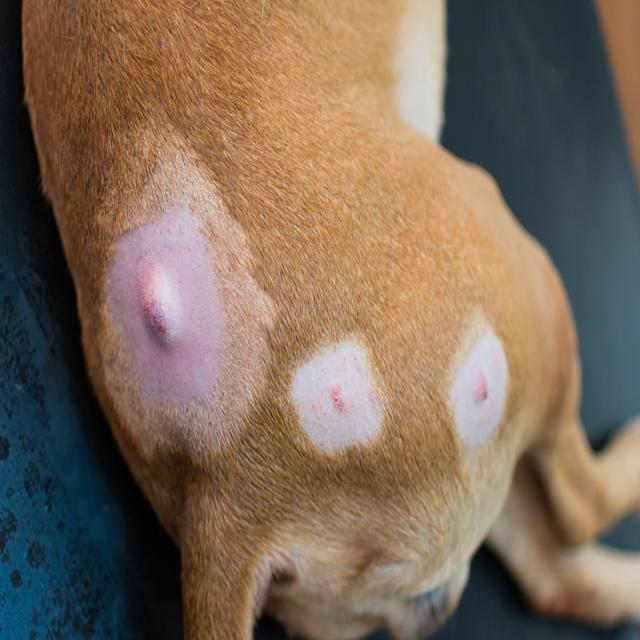lump_and_bump: (138, 263, 178, 345), (468, 371, 497, 403), (327, 388, 353, 413)
